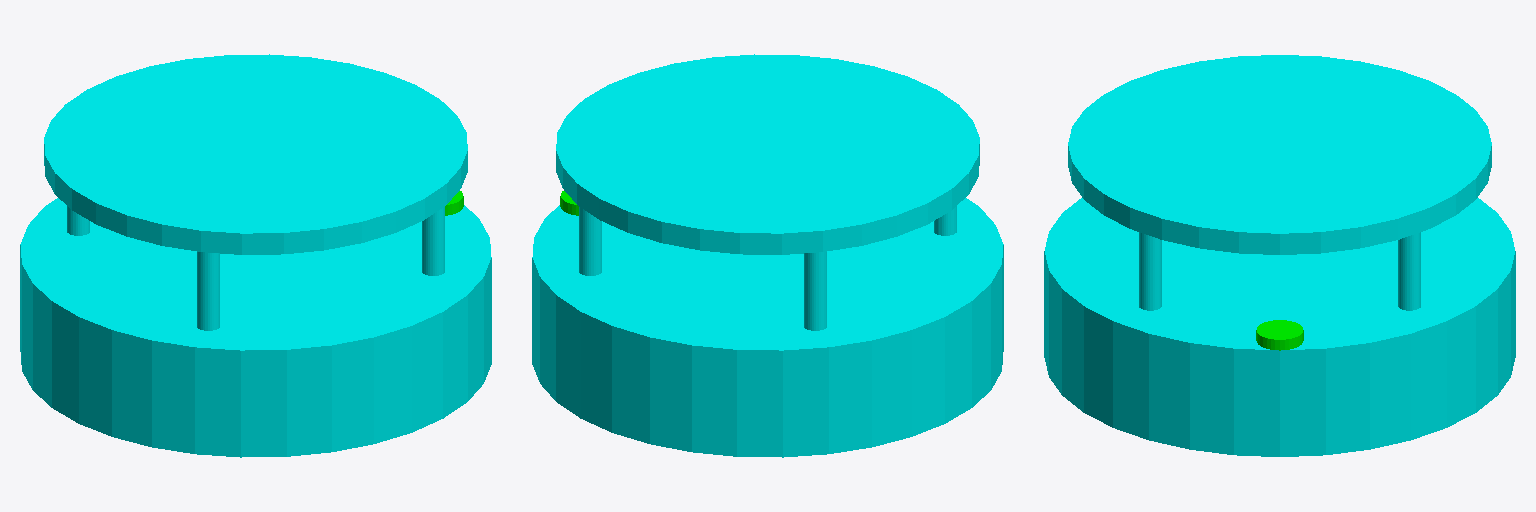
robot.urdf — Simple:
<?xml version="1.0" ?>
<!-- =================================================================================== -->
<!-- |    This document was autogenerated by xacro from hoge.urdf                      | -->
<!-- |    EDITING THIS FILE BY HAND IS NOT RECOMMENDED                                 | -->
<!-- =================================================================================== -->
<robot name="Simple" xmlns:controller="http://playerstage.sourceforge.net/gazebo/xmlschema/#controller" xmlns:interface="http://playerstage.sourceforge.net/gazebo/xmlschema/#interface" xmlns:sensor="http://playerstage.sourceforge.net/gazebo/xmlschema/#sensor">
  <link name="base_link"/>
  <link name="base_laser_link"/>
  <link name="main">
    <!-- main body -->
    <visual>
      <origin rpy="0 0 0" xyz="0 0 0"/>
      <geometry>
        <cylinder length="0.1" radius="0.2"/>
      </geometry>
      <material name="Cyan">
        <color rgba="0 1.0 1.0 1.0"/>
      </material>
    </visual>
    <!-- upper plate -->
    <visual>
      <origin rpy="0 0 0" xyz="0 0 0.14"/>
      <geometry>
        <cylinder length="0.02" radius="0.18"/>
      </geometry>
      <material name="Cyan">
        <color rgba="0 1.0 1.0 1.0"/>
      </material>
    </visual>
    <!-- poles -->
    <visual>
      <origin rpy="0 0 0" xyz="0.11 0.11 0.09"/>
      <geometry>
        <cylinder length="0.08" radius="0.01"/>
      </geometry>
      <material name="Cyan">
        <color rgba="0 1.0 1.0 1.0"/>
      </material>
    </visual>
    <visual>
      <origin rpy="0 0 0" xyz="-0.11 0.11 0.09"/>
      <geometry>
        <cylinder length="0.08" radius="0.01"/>
      </geometry>
      <material name="Cyan">
        <color rgba="0 1.0 1.0 1.0"/>
      </material>
    </visual>
    <visual>
      <origin rpy="0 0 0" xyz="0.11 -0.11 0.09"/>
      <geometry>
        <cylinder length="0.08" radius="0.01"/>
      </geometry>
      <material name="Cyan">
        <color rgba="0 1.0 1.0 1.0"/>
      </material>
    </visual>
    <visual>
      <origin rpy="0 0 0" xyz="-0.11 -0.11 0.09"/>
      <geometry>
        <cylinder length="0.08" radius="0.01"/>
      </geometry>
      <material name="Cyan">
        <color rgba="0 1.0 1.0 1.0"/>
      </material>
    </visual>
    <!-- marker -->
    <visual>
      <origin rpy="0 0 0" xyz="0.18 0 0.055"/>
      <geometry>
        <cylinder length="0.01" radius="0.02"/>
      </geometry>
      <material name="Green">
        <color rgba="0.0 1.0 0.0 1.0"/>
      </material>
    </visual>
    <!-- collisions -->
    <collision>
      <origin rpy="0 0 0" xyz="0 0 0"/>
      <geometry>
        <cylinder length="0.1" radius="0.2"/>
      </geometry>
    </collision>
    <inertial>
      <mass value="40.0"/>
      <origin rpy="0 0 0" xyz="0 0 0.0"/>
      <inertia ixx="0.4" ixy="0" ixz="0" iyy="0.4" iyz="0" izz="0.64"/>
    </inertial>
  </link>
  <joint name="fixed_base_link_to_main" type="fixed">
    <parent link="base_link"/>
    <child link="main"/>
    <origin rpy="0 0 0" xyz="0.0 0.0 0.05"/>
  </joint>
  <joint name="fixed_main_to_baselaser_link" type="fixed">
    <parent link="main"/>
    <child link="base_laser_link"/>
    <origin rpy="0 0 0" xyz="0.2 0.0 0.15"/>
  </joint>
  <!-- hokuyo -->
  <gazebo reference="base_laser_link">
    <sensor name="head_hokuyo_sensor" type="ray">
      <pose>0 0 0 0 0 0</pose>
      <visualize>false</visualize>
      <update_rate>40</update_rate>
      <ray>
        <scan>
          <horizontal>
            <samples>1000</samples>
            <resolution>1</resolution>
            <min_angle>-2.35619449</min_angle>
            <max_angle>2.35619449</max_angle>
          </horizontal>
        </scan>
        <range>
          <min>0.5</min>
          <max>30.0</max>
          <resolution>0.01</resolution>
        </range>
        <noise>
          <type>gaussian</type>
          <!--
                 Noise parameters based on published spec for Hokuyo laser
                 achieving "+-30mm" accuracy at range < 10m.  A mean of 0.0m and
                 stddev of 0.01m will put 99.7% of samples within 0.03m of the true
                 reading.
                 -->
          <mean>0.0</mean>
          <stddev>0.01</stddev>
        </noise>
      </ray>
      <plugin filename="libgazebo_ros_laser.so" name="gazebo_ros_head_hokuyo_controller">
        <topicName>scan</topicName>
        <frameName>base_laser_link</frameName>
      </plugin>
    </sensor>
  </gazebo>
  <!-- Base control -->
  <gazebo>
    <!--plugin filename="libgazebo_ros_planar_force_move.so" name="cmd_vel_controller"-->
    <plugin filename="libgazebo_ros_planar_move.so" name="cmd_vel_controller">
      <commandTopic>cmd_vel</commandTopic>
      <odometryTopic>odom</odometryTopic>
      <odometryFrame>odom</odometryFrame>
      <odometryRate>40.0</odometryRate>
      <robotBaseFrame>base_link</robotBaseFrame>
      <useForceFeedback>false</useForceFeedback>
      <appliedForceLink>base_link</appliedForceLink>
      <forceGainX>24000</forceGainX>
      <forceGainY>24000</forceGainY>
      <forceGainRot>6000</forceGainRot>
    </plugin>
  </gazebo>
</robot>

--- Render facts (derived) ---
The picture shows the robot from 3 angles, left to right: view 1: azimuth 30°, elevation 25°; view 2: azimuth 150°, elevation 25°; view 3: azimuth 270°, elevation 25°; orthographic projection.
Model Simple with 3 links and 2 joints (2 fixed), rooted at base_link, posed every joint at zero.
Visible links, largest first — view 1: main; view 2: main; view 3: main.
Link boxes in pixels (x1,y1,x2,y2): main: (20,54,491,457); main: (532,54,1003,457); main: (1044,55,1515,456).
Bounding box of the posed robot: 0.4 × 0.4 × 0.2 m (x, y, z).
Geometry: primitives only (box / cylinder / sphere), no mesh files.
